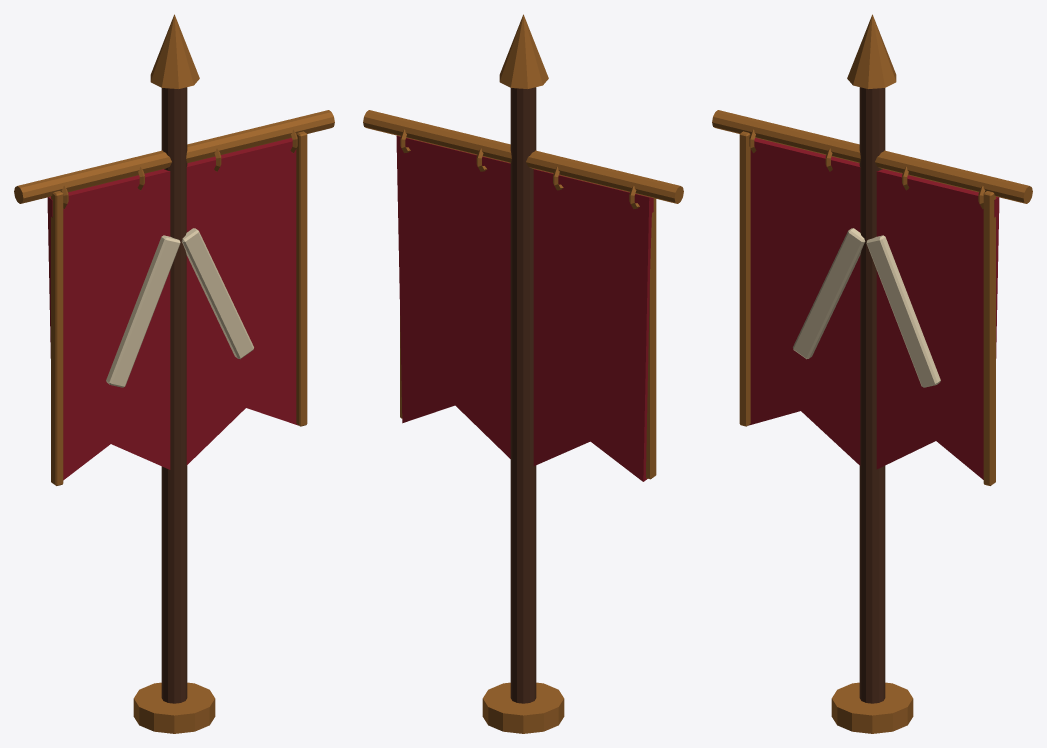
Rendered from battle_banner_crimson_lambda_LOD0.glb.
3 views of the same model, side by side, from view 1: azimuth 30°, elevation 25°; view 2: azimuth 150°, elevation 25°; view 3: azimuth 330°, elevation 25° (orthographic).
Visible parts, largest first — view 1: battle_banner_crimson_lambda_LOD0; view 2: battle_banner_crimson_lambda_LOD0; view 3: battle_banner_crimson_lambda_LOD0.
Part boxes in pixels (x1=…): battle_banner_crimson_lambda_LOD0: x1=14, y1=14, x2=334, y2=733; battle_banner_crimson_lambda_LOD0: x1=363, y1=14, x2=683, y2=733; battle_banner_crimson_lambda_LOD0: x1=712, y1=14, x2=1032, y2=733.
Bounding box in the file's own units: 2.12 × 4.57 × 0.48.
